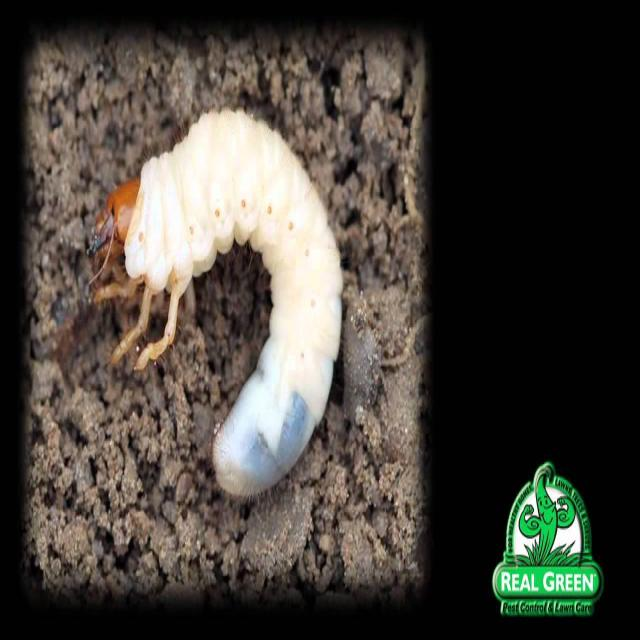Grub-Adult-: (87, 93, 351, 535)
